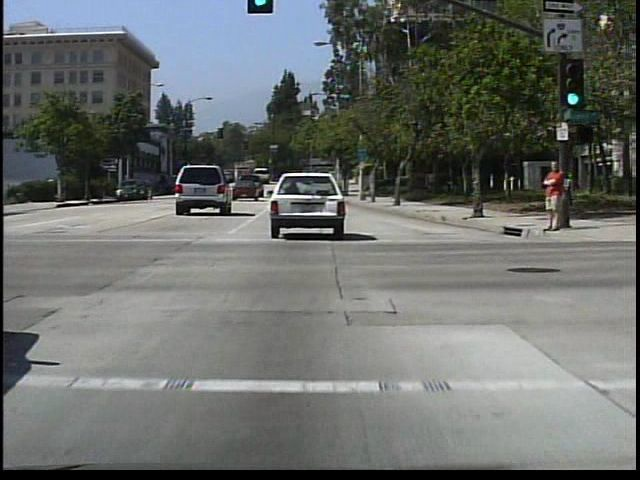person: (539, 158, 566, 235)
